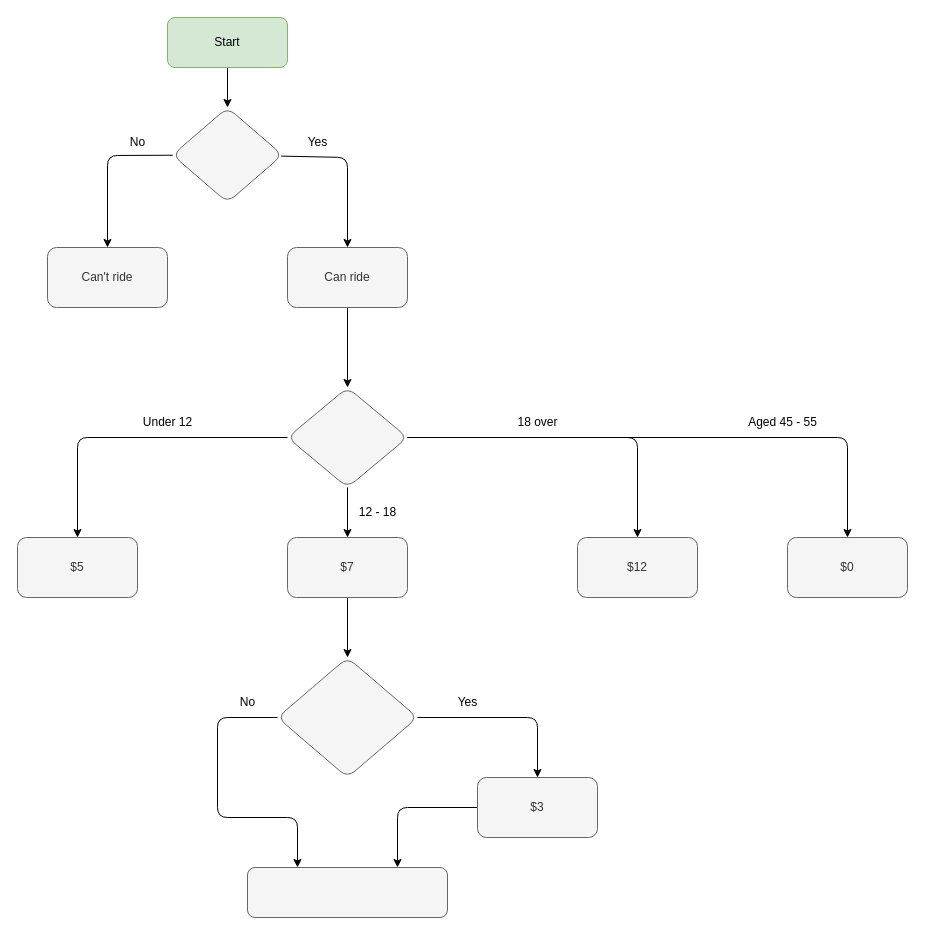
The diagram is 925 pixels wide and 935 high, and some of its shapes have lost their labels. The centre of each missing label's shape, as x and y in pixels:
age: point 347,437
Height>=120?: point 227,154
The total bill: $X: point 347,892
want photos?: point 347,717
